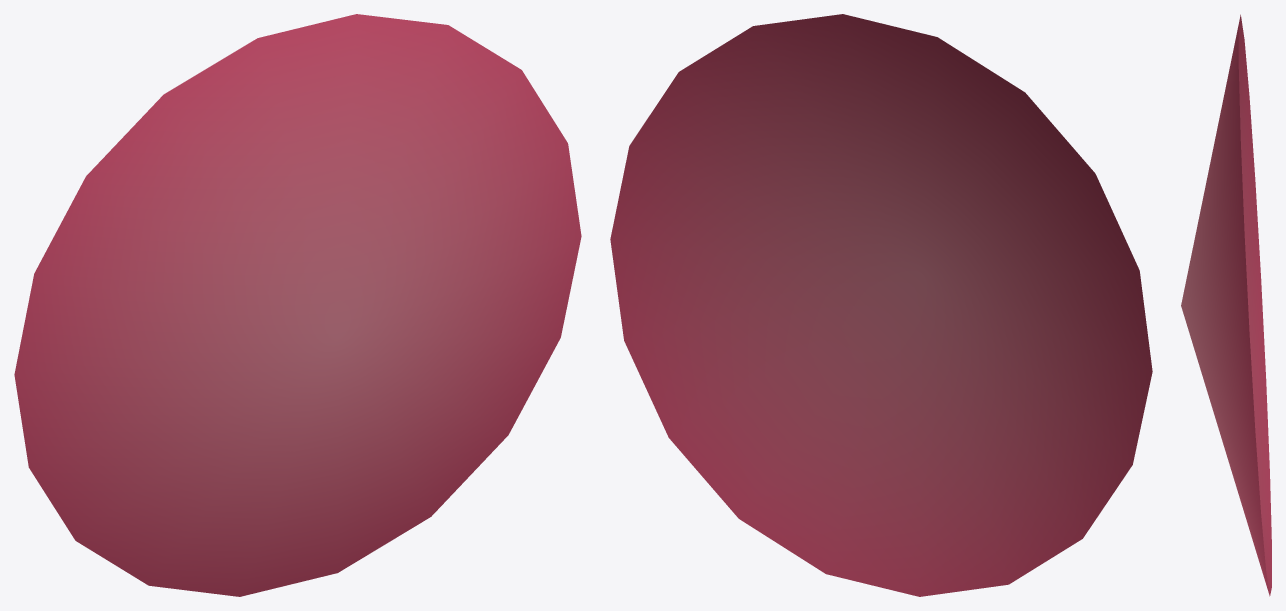
Rendered from RaceGoRedLightOn.glb.
3 views of the same model, side by side, from view 1: azimuth 30°, elevation 25°; view 2: azimuth 150°, elevation 25°; view 3: azimuth 270°, elevation 25° (orthographic). The views are drawn at different scales.
Parts seen in each view (by area): view 1: RaceGoRedLightOn; view 2: RaceGoRedLightOn; view 3: RaceGoRedLightOn.
Boxes of the visible parts, x1,y1,x2,y2 form: RaceGoRedLightOn: [14, 14, 581, 596]; RaceGoRedLightOn: [610, 14, 1152, 596]; RaceGoRedLightOn: [1181, 14, 1271, 596].
Bounding box in the file's own units: 0.1773 × 0.171 × 0.0271.
